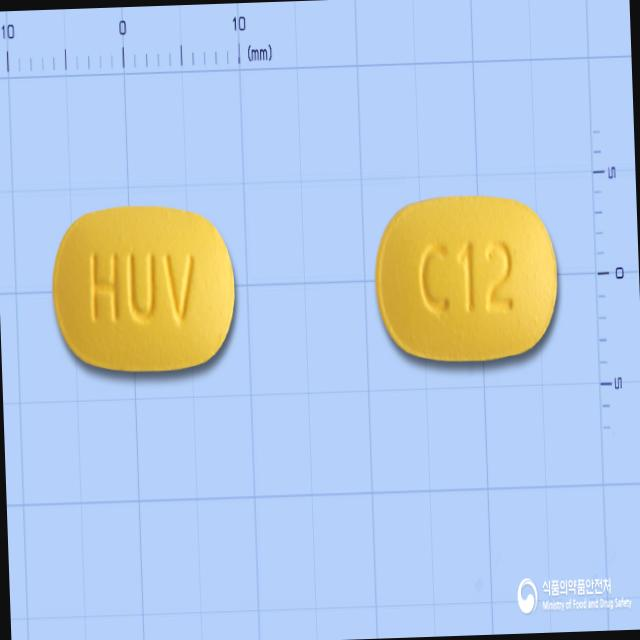Clavit: (370, 188, 563, 372), (50, 198, 242, 382)
